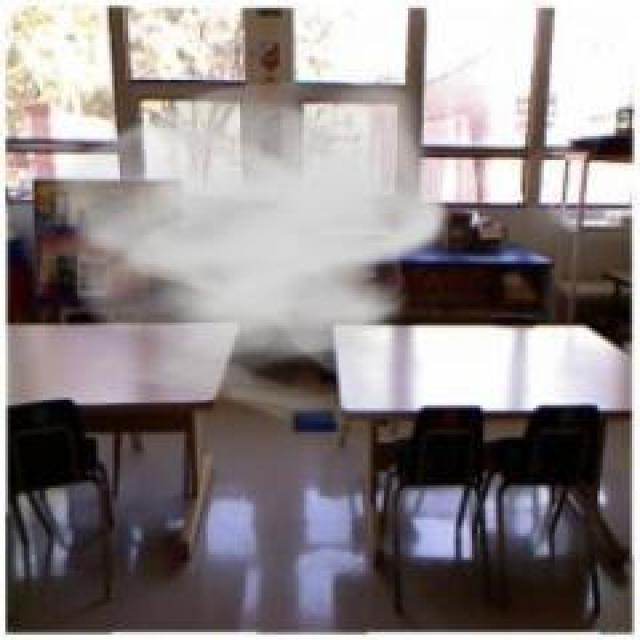Smoke: (39, 68, 452, 428)
